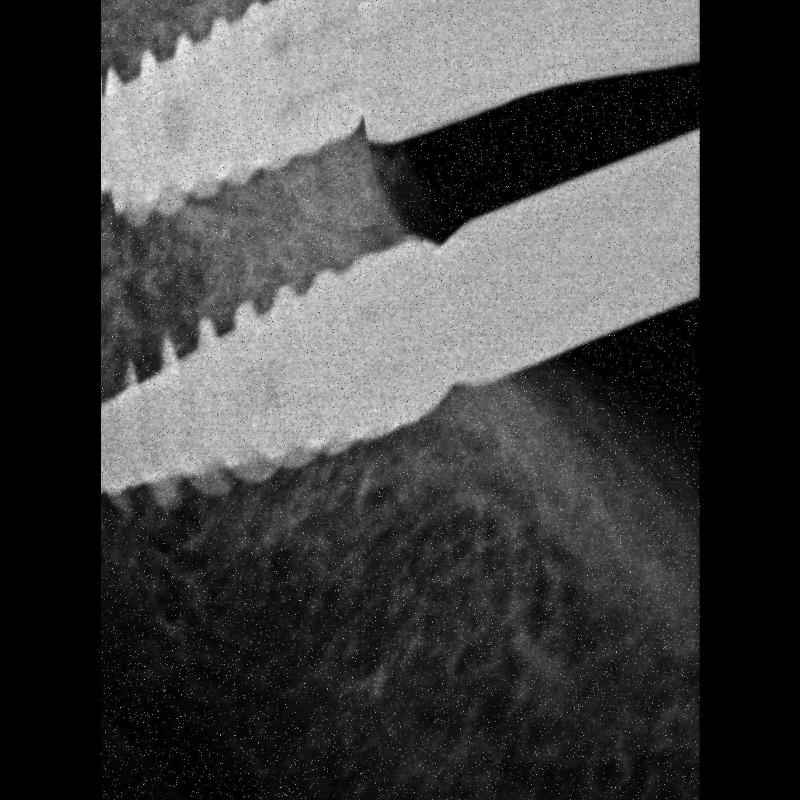ADIN: (101, 235, 421, 541), (102, 1, 372, 259)
